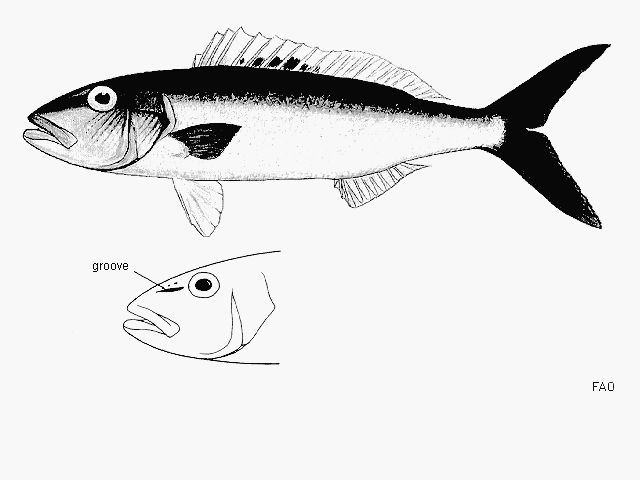fish: (18, 27, 611, 238)
